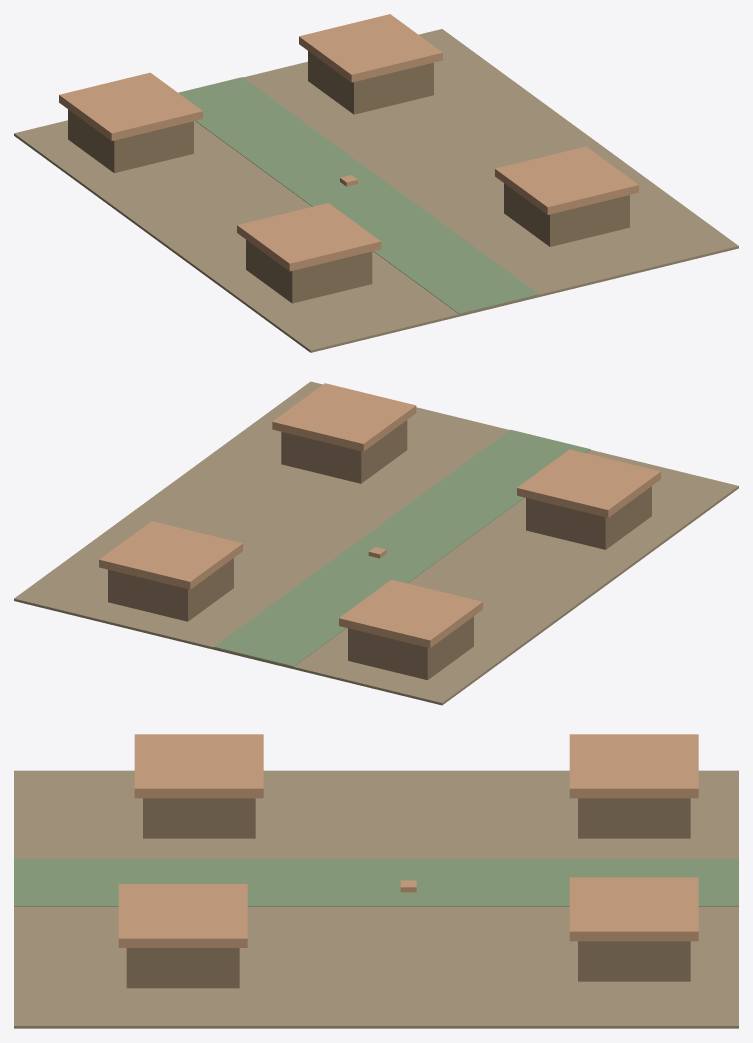
File: demo-camp.glb
3 renders of one model, top to bottom at view 1: azimuth 30°, elevation 25°; view 2: azimuth 150°, elevation 25°; view 3: azimuth 270°, elevation 25°, orthographic. The views are drawn at different scales.
Visible parts, largest first — view 1: ground-floor, roof (×4), ground-path, cabin (×4); view 2: ground-floor, roof (×4), ground-path, cabin (×4); view 3: ground-floor, roof (×4), ground-path, cabin (×4).
Part boxes in pixels (x1,y1,x2,y2): ground-floor: [14, 29, 738, 352]; roof (×4): [59, 14, 638, 271]; ground-path: [178, 77, 538, 313]; cabin (×4): [68, 51, 629, 303]; ground-floor: [14, 381, 738, 705]; roof (×4): [99, 383, 660, 647]; ground-path: [214, 429, 590, 666]; cabin (×4): [108, 420, 651, 680]; ground-floor: [14, 770, 738, 1028]; roof (×4): [118, 734, 698, 947]; ground-path: [14, 858, 738, 906]; cabin (×4): [126, 798, 690, 988].
Bounding box in the file's own units: 37.5 × 3.85 × 45.
